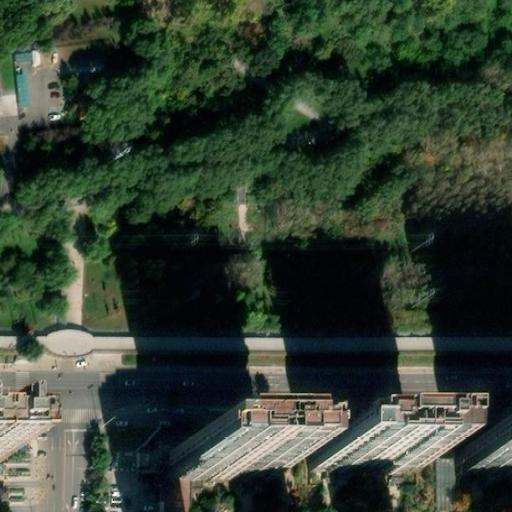building: (171, 443, 283, 476), (310, 445, 415, 474), (8, 47, 37, 107), (466, 442, 512, 471), (28, 122, 84, 145)
